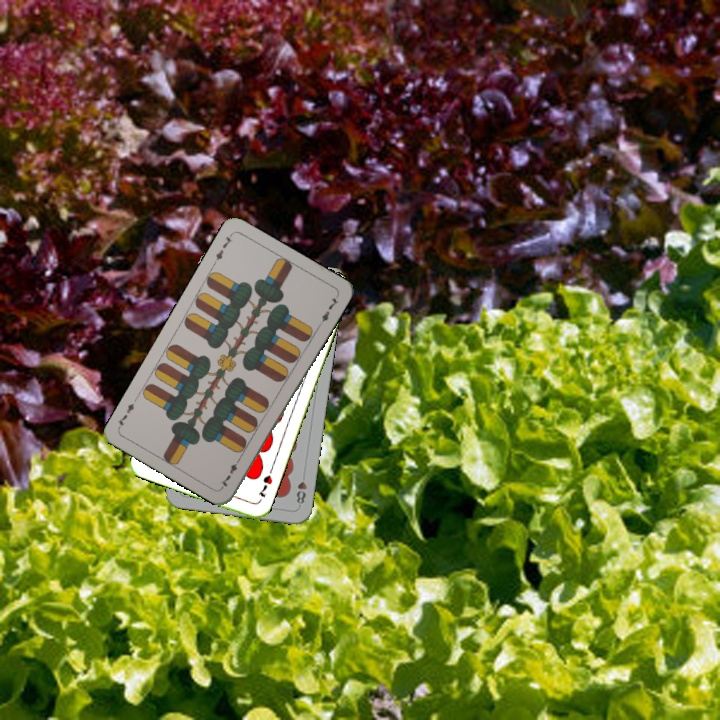E7: (216, 453, 243, 490), (209, 230, 235, 267)
H7: (254, 471, 275, 500)
H8: (292, 469, 309, 509)
